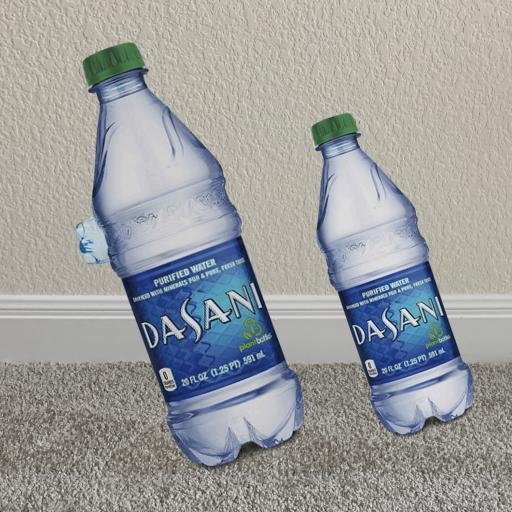bottle: (67, 26, 307, 474), (303, 88, 485, 432), (72, 215, 116, 266)
